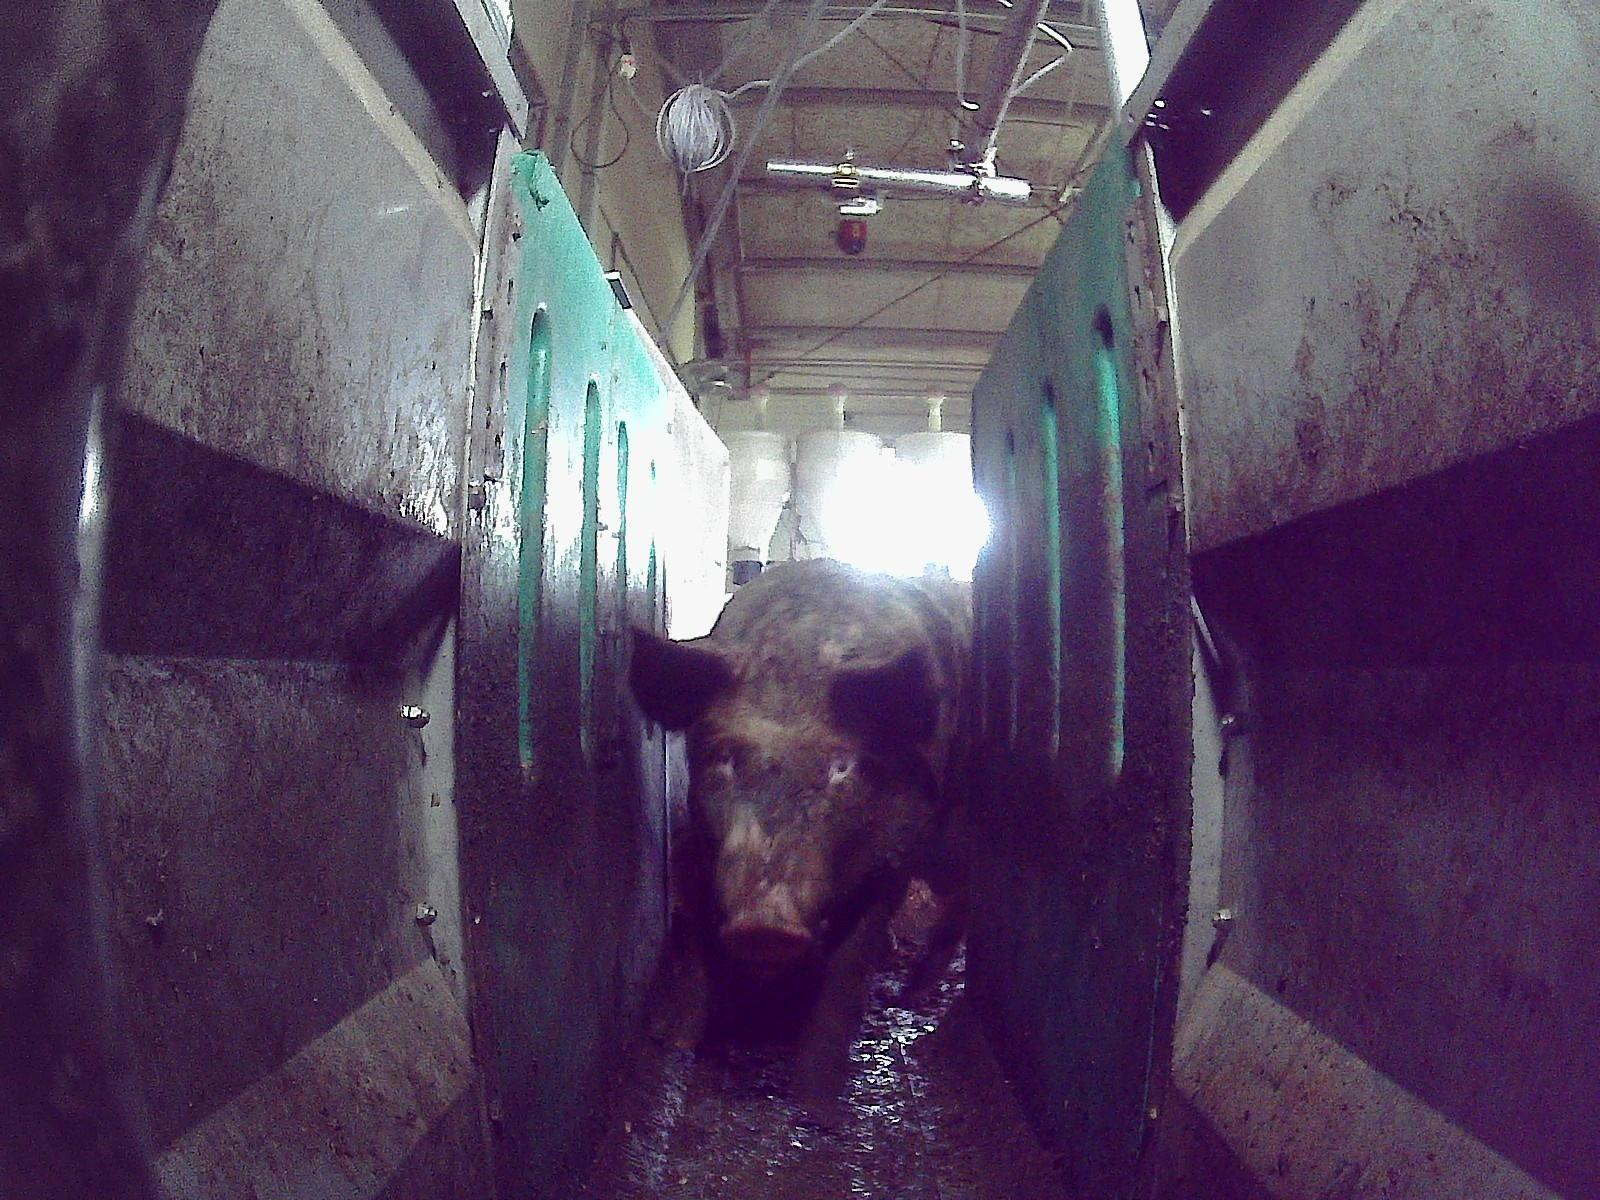Face: (689, 691, 867, 961)
